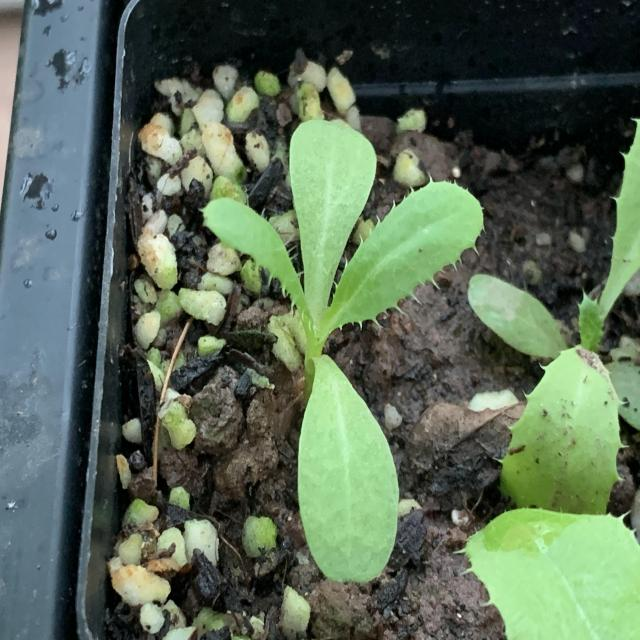field_thistle: (214, 92, 468, 586)
